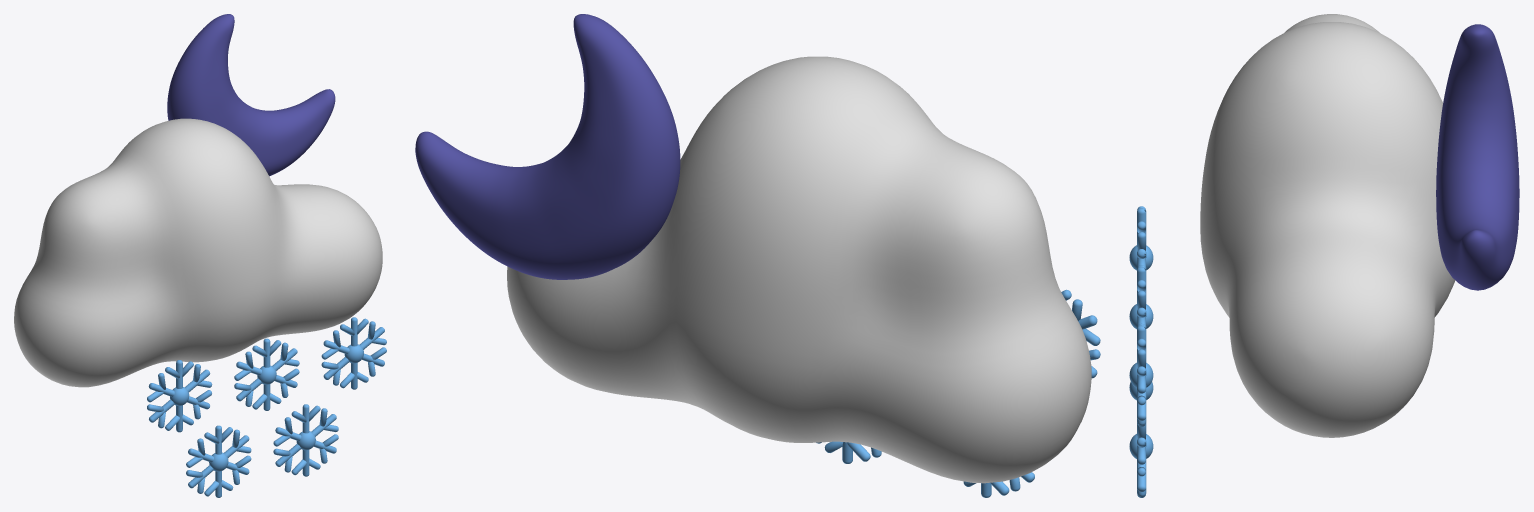
File: snow-night.glb
3 views of the same model, side by side, from view 1: azimuth 30°, elevation 25°; view 2: azimuth 150°, elevation 25°; view 3: azimuth 270°, elevation 25° (orthographic). The views are drawn at different scales.
Visible parts, largest first — view 1: 0020; view 2: 0020; view 3: 0020.
Boxes of the visible parts, bbox=[...] form: 0020: bbox=[14, 14, 386, 497]; 0020: bbox=[415, 14, 1100, 497]; 0020: bbox=[1129, 14, 1519, 497].
Size of the model in its own units: 2.43 by 2.31 by 1.64.
